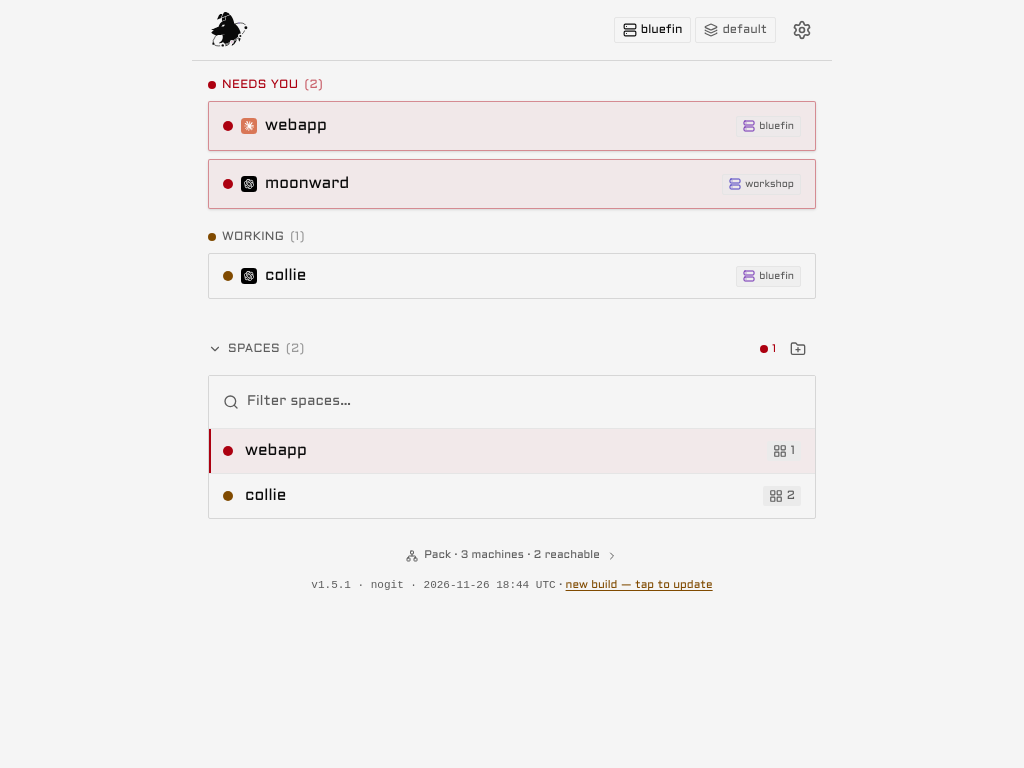
Test: the dashboard across machines › grows a host switcher beside the session switcher, and keeps ONE herd list
The width and height of the screenshot is (1024, 768).
Expected: the button with aria-label "switch host" is shown, [614,17,691,43]
Click the button with aria-label "switch session".
click(736, 30)  # box [695,17,776,43]
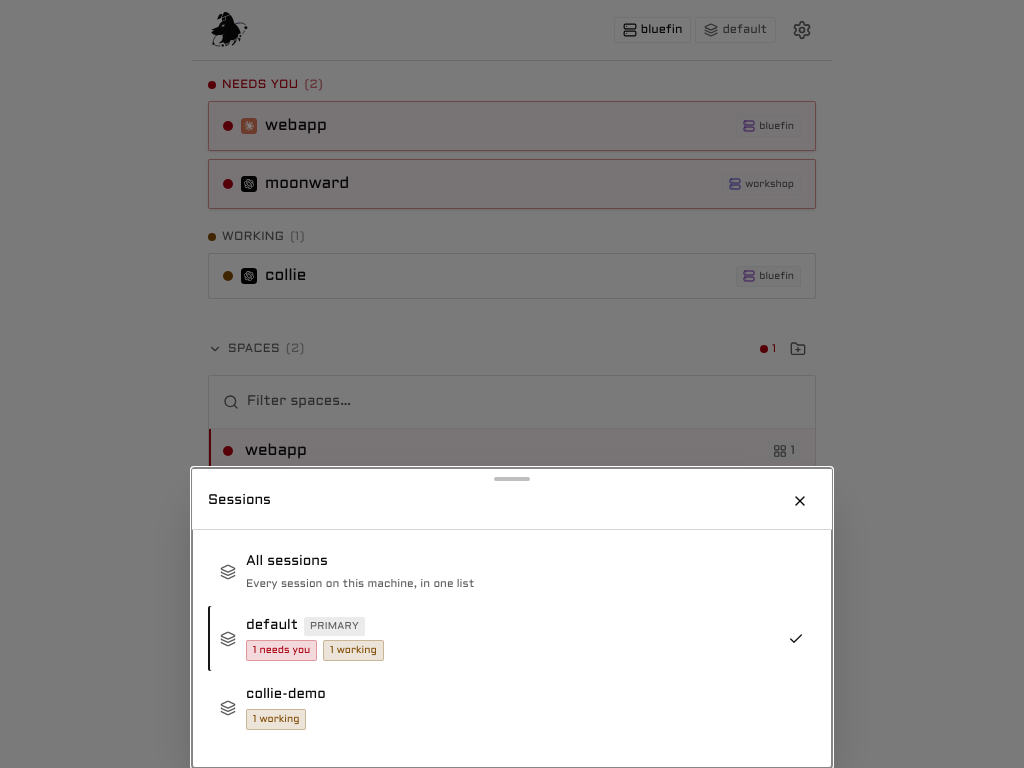
Expected: the button "All sessions Every session on this machine, in one list" is shown, [208,542,816,602]
